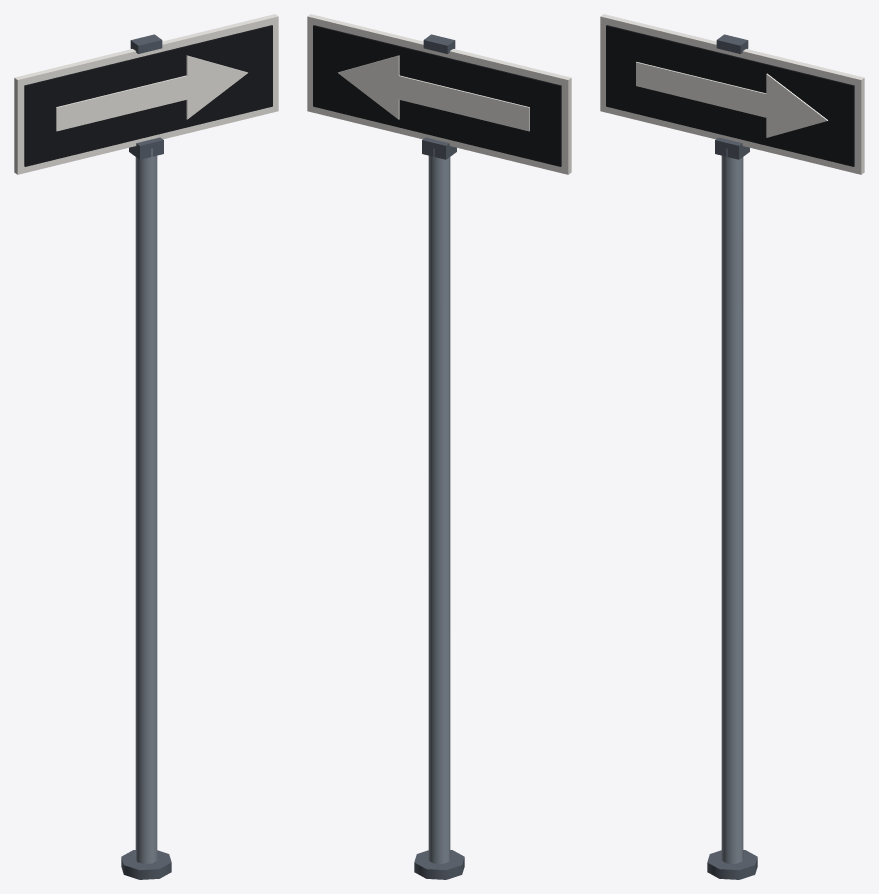
File: sign_oneway.glb
The picture shows the model from 3 angles, left to right: view 1: azimuth 30°, elevation 25°; view 2: azimuth 150°, elevation 25°; view 3: azimuth 330°, elevation 25°; orthographic projection.
Visible parts, largest first — view 1: sign_oneway; view 2: sign_oneway; view 3: sign_oneway.
Part boxes in pixels (x1,y1,x2,y2): sign_oneway: (14, 14, 278, 879); sign_oneway: (307, 14, 571, 879); sign_oneway: (600, 14, 864, 879).
Bounding box in the file's own units: 0.98 × 2.98 × 0.17.
